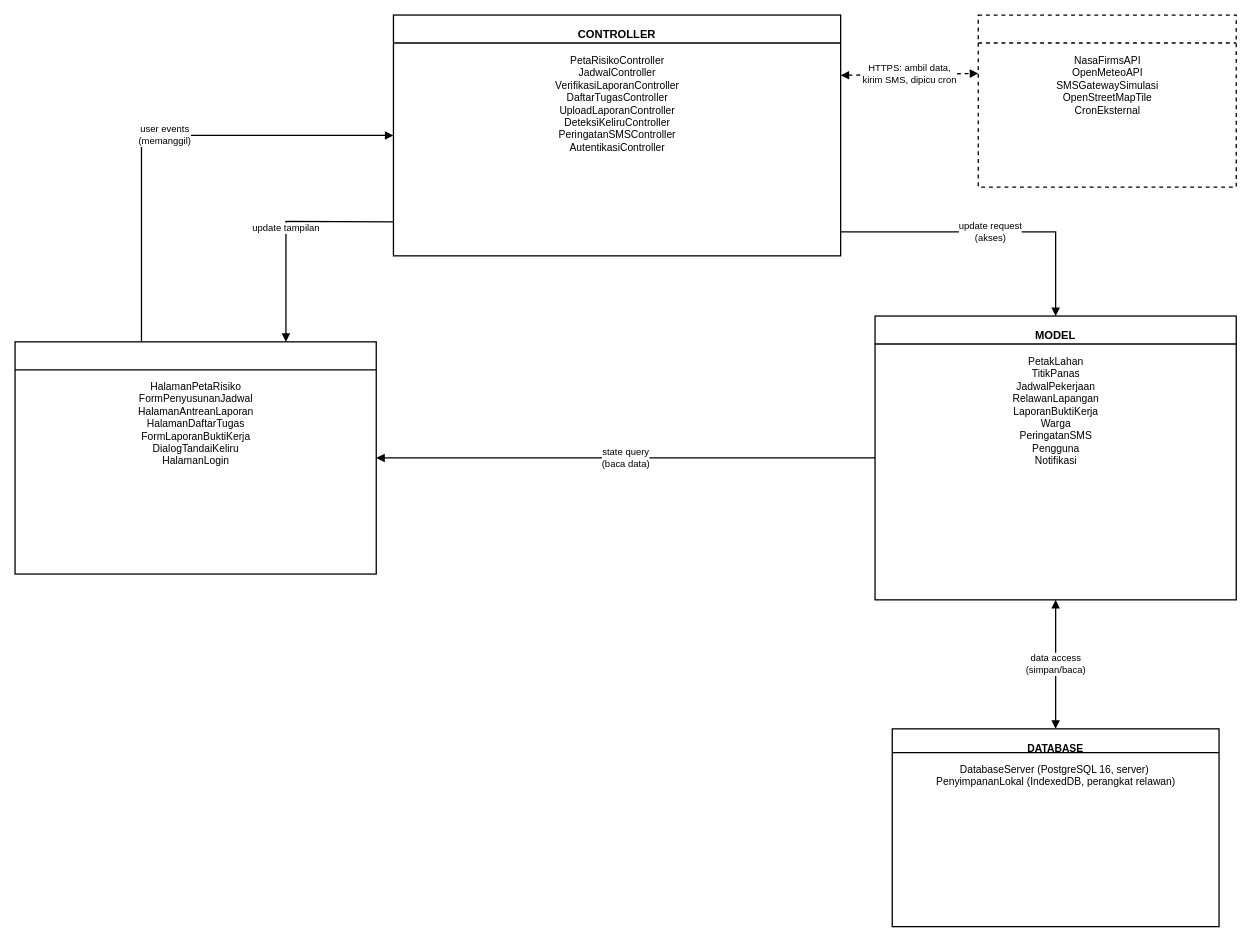
Image size: 1252x943. Some labels were removed from this diagram. The box of each missing label's shape, as (x1, y1, x2, y2) in pixels:
SISTEM EKSTERNAL (di luar MVC): (977, 14, 1237, 187)
VIEW: (14, 341, 377, 574)
